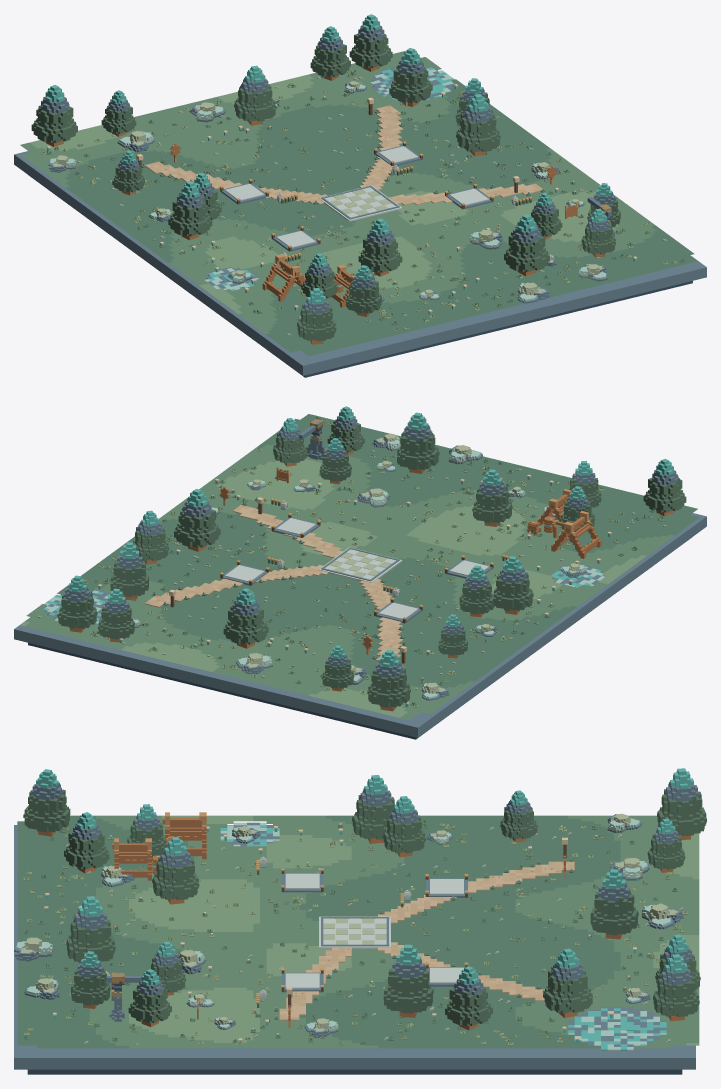
Rendered from defense_polluted.glb.
3 renders of one model, top to bottom at view 1: azimuth 30°, elevation 25°; view 2: azimuth 150°, elevation 25°; view 3: azimuth 270°, elevation 25°, orthographic. The views are drawn at different scales.
Parts seen in each view (by area): view 1: defense_ground, defense_occluders; view 2: defense_ground, defense_occluders; view 3: defense_ground, defense_occluders.
Boxes of the visible parts, bbox=[...] form: defense_ground: bbox=[14, 51, 706, 377]; defense_occluders: bbox=[31, 14, 620, 344]; defense_ground: bbox=[14, 414, 706, 739]; defense_occluders: bbox=[57, 406, 686, 711]; defense_ground: bbox=[14, 815, 699, 1074]; defense_occluders: bbox=[14, 768, 706, 1030].
Bounding box in the file's own units: 42.25 × 9 × 52.85.
